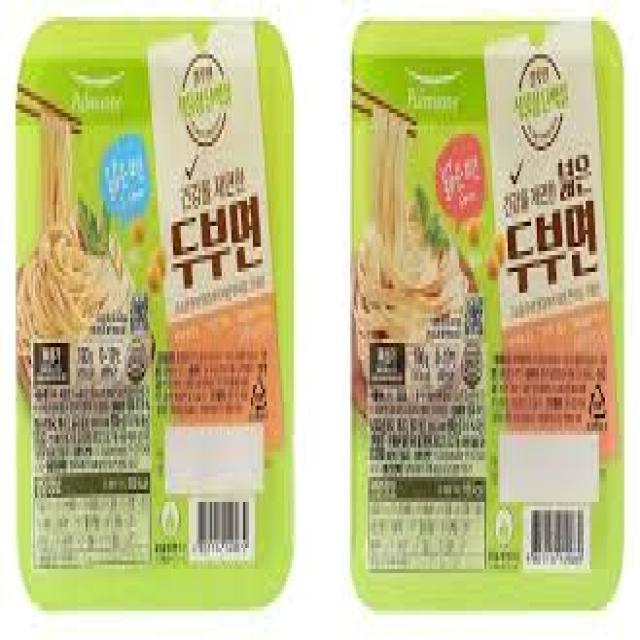tofu: (14, 7, 306, 634)
